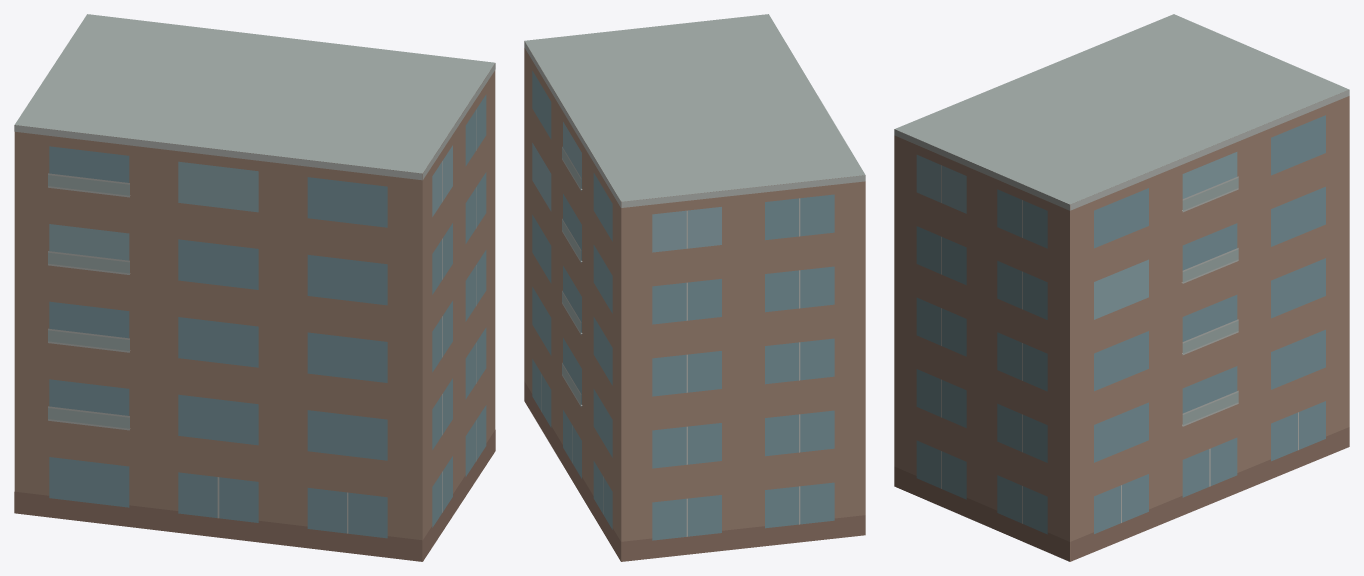
File: survey-upis-33012149.glb
The picture shows the model from 3 angles, left to right: view 1: azimuth 30°, elevation 25°; view 2: azimuth 150°, elevation 25°; view 3: azimuth 270°, elevation 25°; orthographic projection. The views are drawn at different scales.
Visible parts, largest first — view 1: survey-upis-33012149.tmp; view 2: survey-upis-33012149.tmp; view 3: survey-upis-33012149.tmp.
Boxes of the visible parts, x1,y1,x2,y2 form: survey-upis-33012149.tmp: (14, 14, 495, 561); survey-upis-33012149.tmp: (524, 14, 865, 561); survey-upis-33012149.tmp: (894, 14, 1349, 561).
Bounding box in the file's own units: 16.03 × 14 × 16.17.
